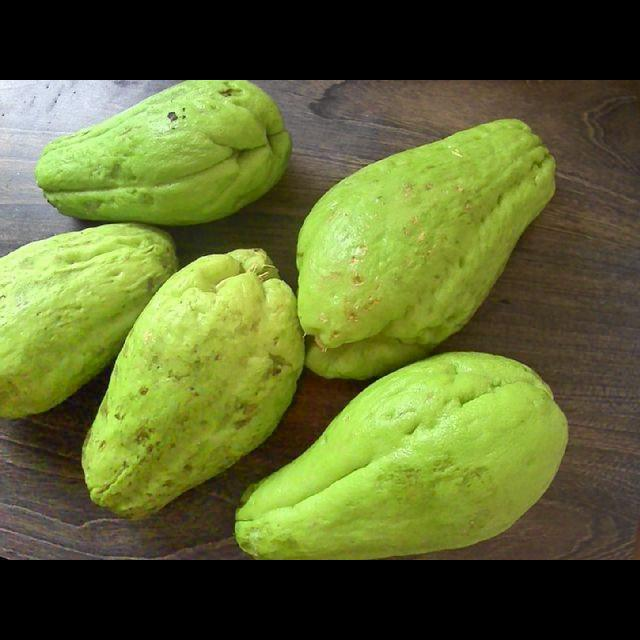chayote: (237, 352, 568, 559), (298, 120, 556, 377), (82, 249, 305, 517), (36, 80, 291, 223), (1, 223, 177, 418)
